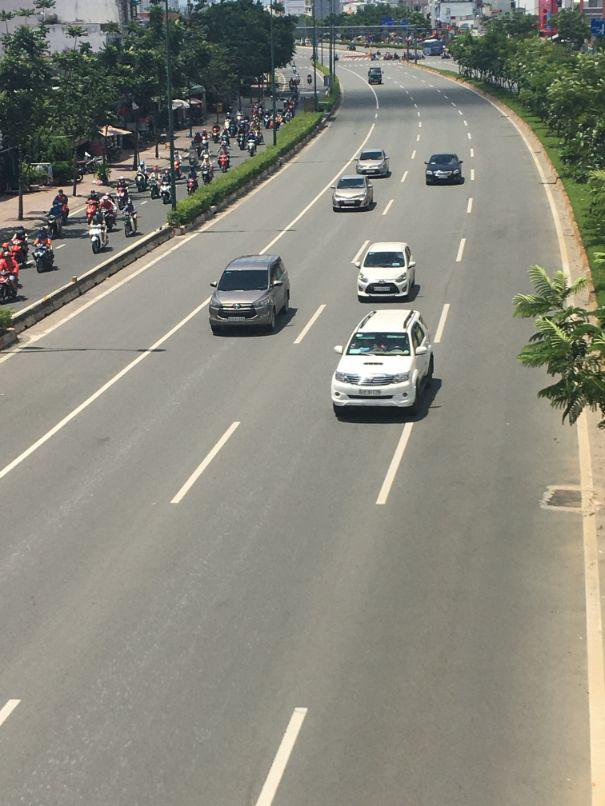car: (333, 309, 439, 419), (209, 255, 294, 333), (354, 241, 419, 306), (332, 176, 376, 214), (425, 155, 463, 188), (357, 147, 393, 177), (369, 67, 384, 85)
motorbike: (0, 259, 23, 303)
